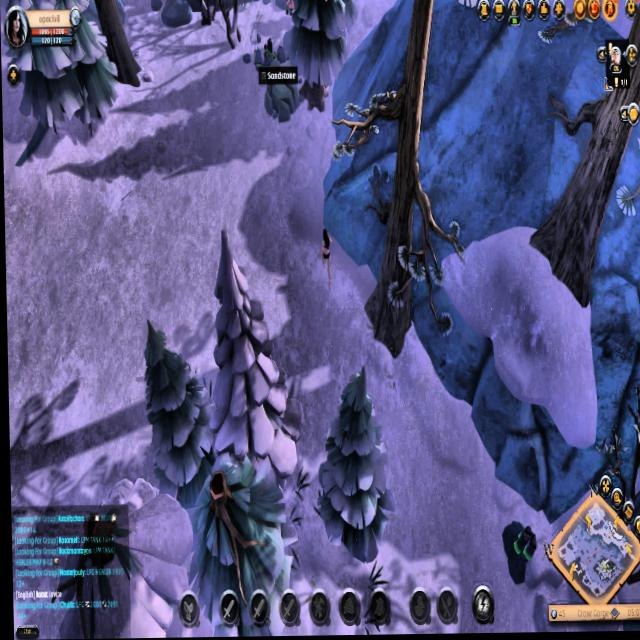tin_ore: (496, 502, 539, 589)
